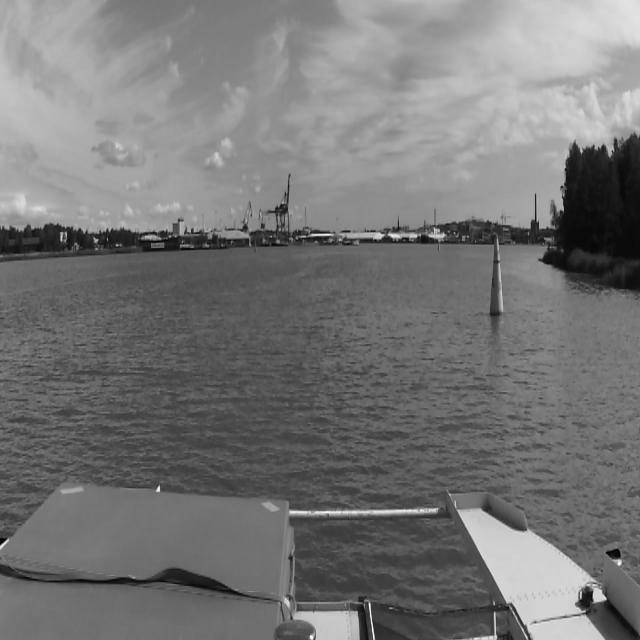buoy: (490, 237, 504, 314), (254, 242, 256, 252), (438, 242, 440, 250)
